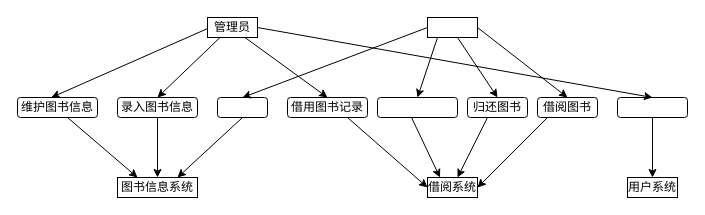
Image size: 705x215. Some labels were removed from this diagram. The shapes that lost their labels are listed below. From the top down, each one's centre as x and y in pixels, then its label:
At (452,27): "用户".
At (242,107): "搜索图书".
At (417,107): "查看借阅记录".
At (652,107): "用户管理".
